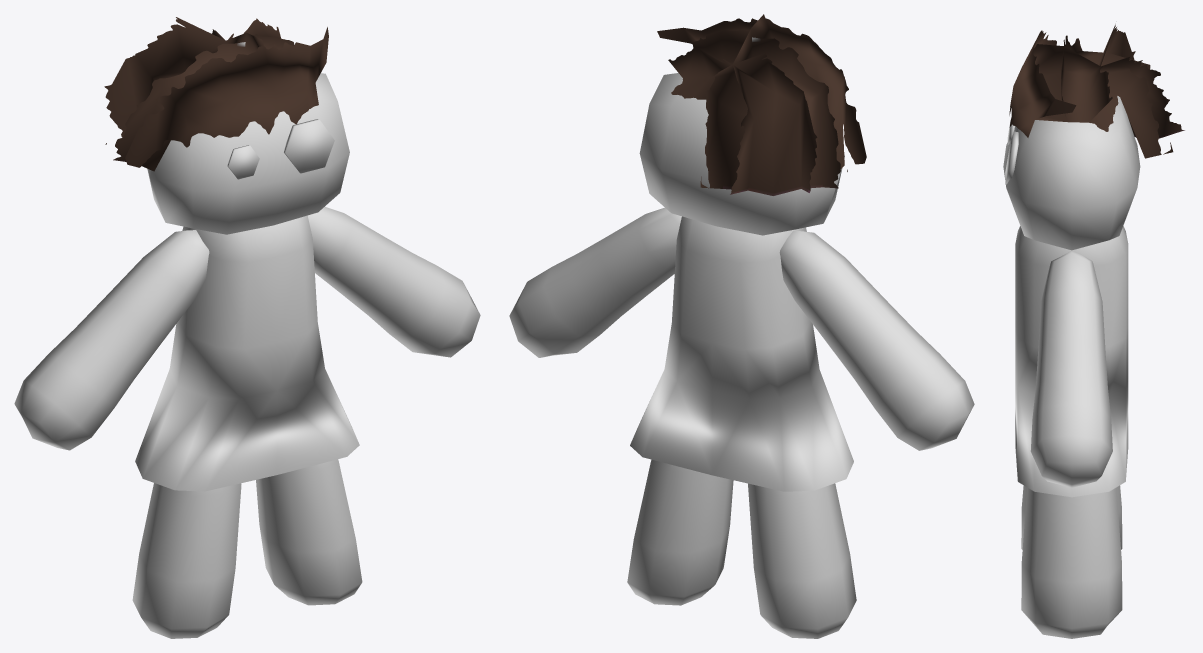
File: Muñeca3.fbx
3 views of the same model, side by side, from view 1: azimuth 30°, elevation 25°; view 2: azimuth 150°, elevation 25°; view 3: azimuth 270°, elevation 25° (orthographic). The views are drawn at different scales.
Parts seen in each view (by area): view 1: Cube.006; view 2: Cube.006; view 3: Cube.006.
Part boxes in pixels (box(x1,y1,x2,y2)): Cube.006: box(14, 17, 480, 638); Cube.006: box(509, 14, 974, 638); Cube.006: box(1003, 24, 1184, 638).
Size of the model in its own units: 6.61 by 8.3 by 2.48.
Materials: 2 (1 with a texture image).
